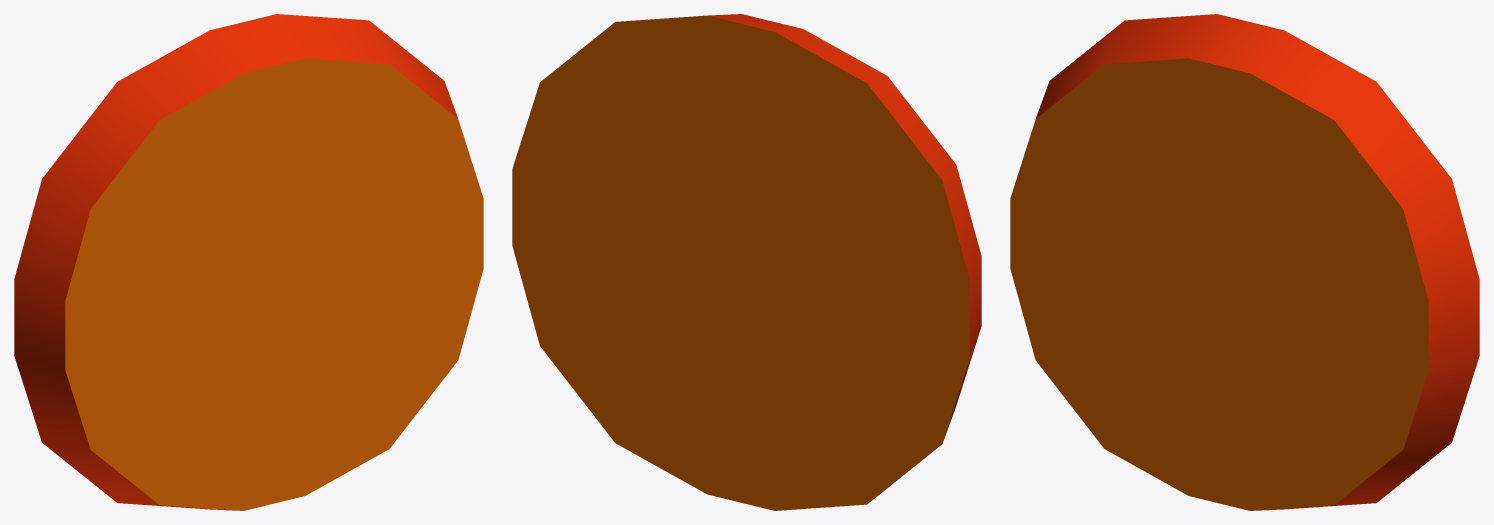
File: mesh_tomato_slice_stage06.fbx
3 renders of one model, left to right at view 1: azimuth 30°, elevation 25°; view 2: azimuth 150°, elevation 25°; view 3: azimuth 330°, elevation 25°, orthographic.
Visible parts, largest first — view 1: mesh_tomato_slice_stage06; view 2: mesh_tomato_slice_stage06; view 3: mesh_tomato_slice_stage06.
Boxes of the visible parts, x1,y1,x2,y2 form: mesh_tomato_slice_stage06: (14, 14, 483, 510); mesh_tomato_slice_stage06: (512, 14, 981, 510); mesh_tomato_slice_stage06: (1010, 14, 1479, 510).
Size of the model in its own units: 0.1895 by 0.1895 by 0.0225.
